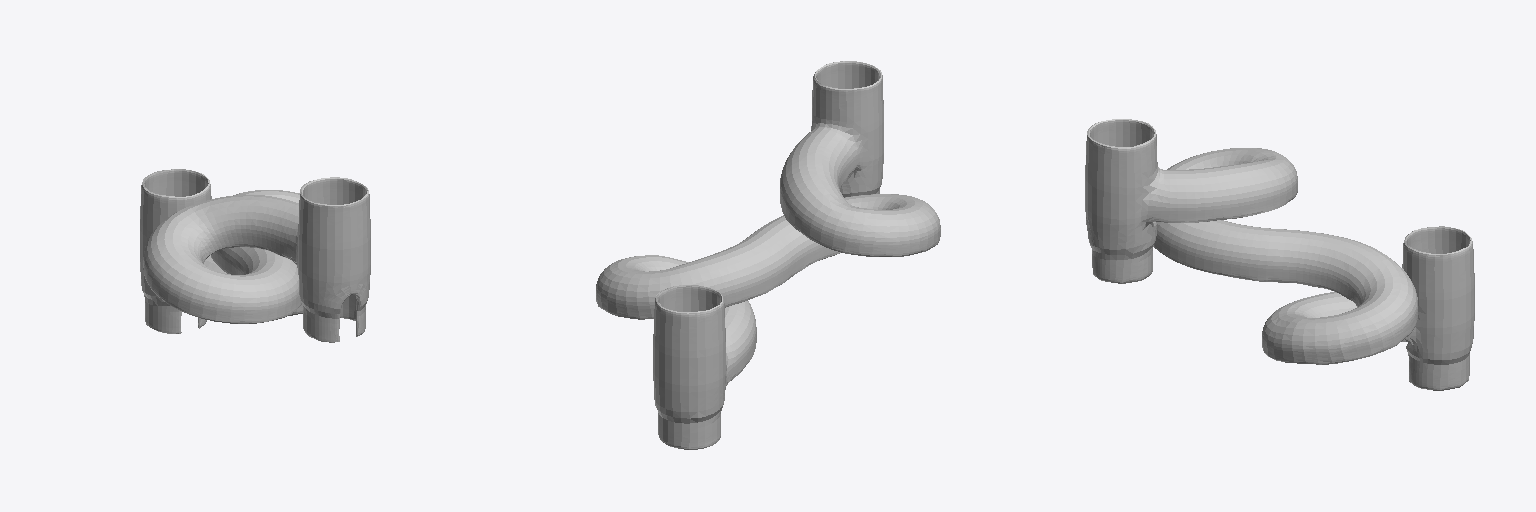
File: Cycloid2Loop_remeshed.OBJ
The picture shows the model from 3 angles: view 1: azimuth 30°, elevation 25°; view 2: azimuth 150°, elevation 25°; view 3: azimuth 270°, elevation 25°; orthographic projection.
Visible parts, largest first — view 1: Group25807; view 2: Group25807; view 3: Group25807.
Part boxes in pixels (x1,y1,x2,y2): Group25807: (140,169,370,342); Group25807: (596,61,940,449); Group25807: (1085,119,1474,390).
Bounding box in the file's own units: 12.87 × 11.51 × 16.49.